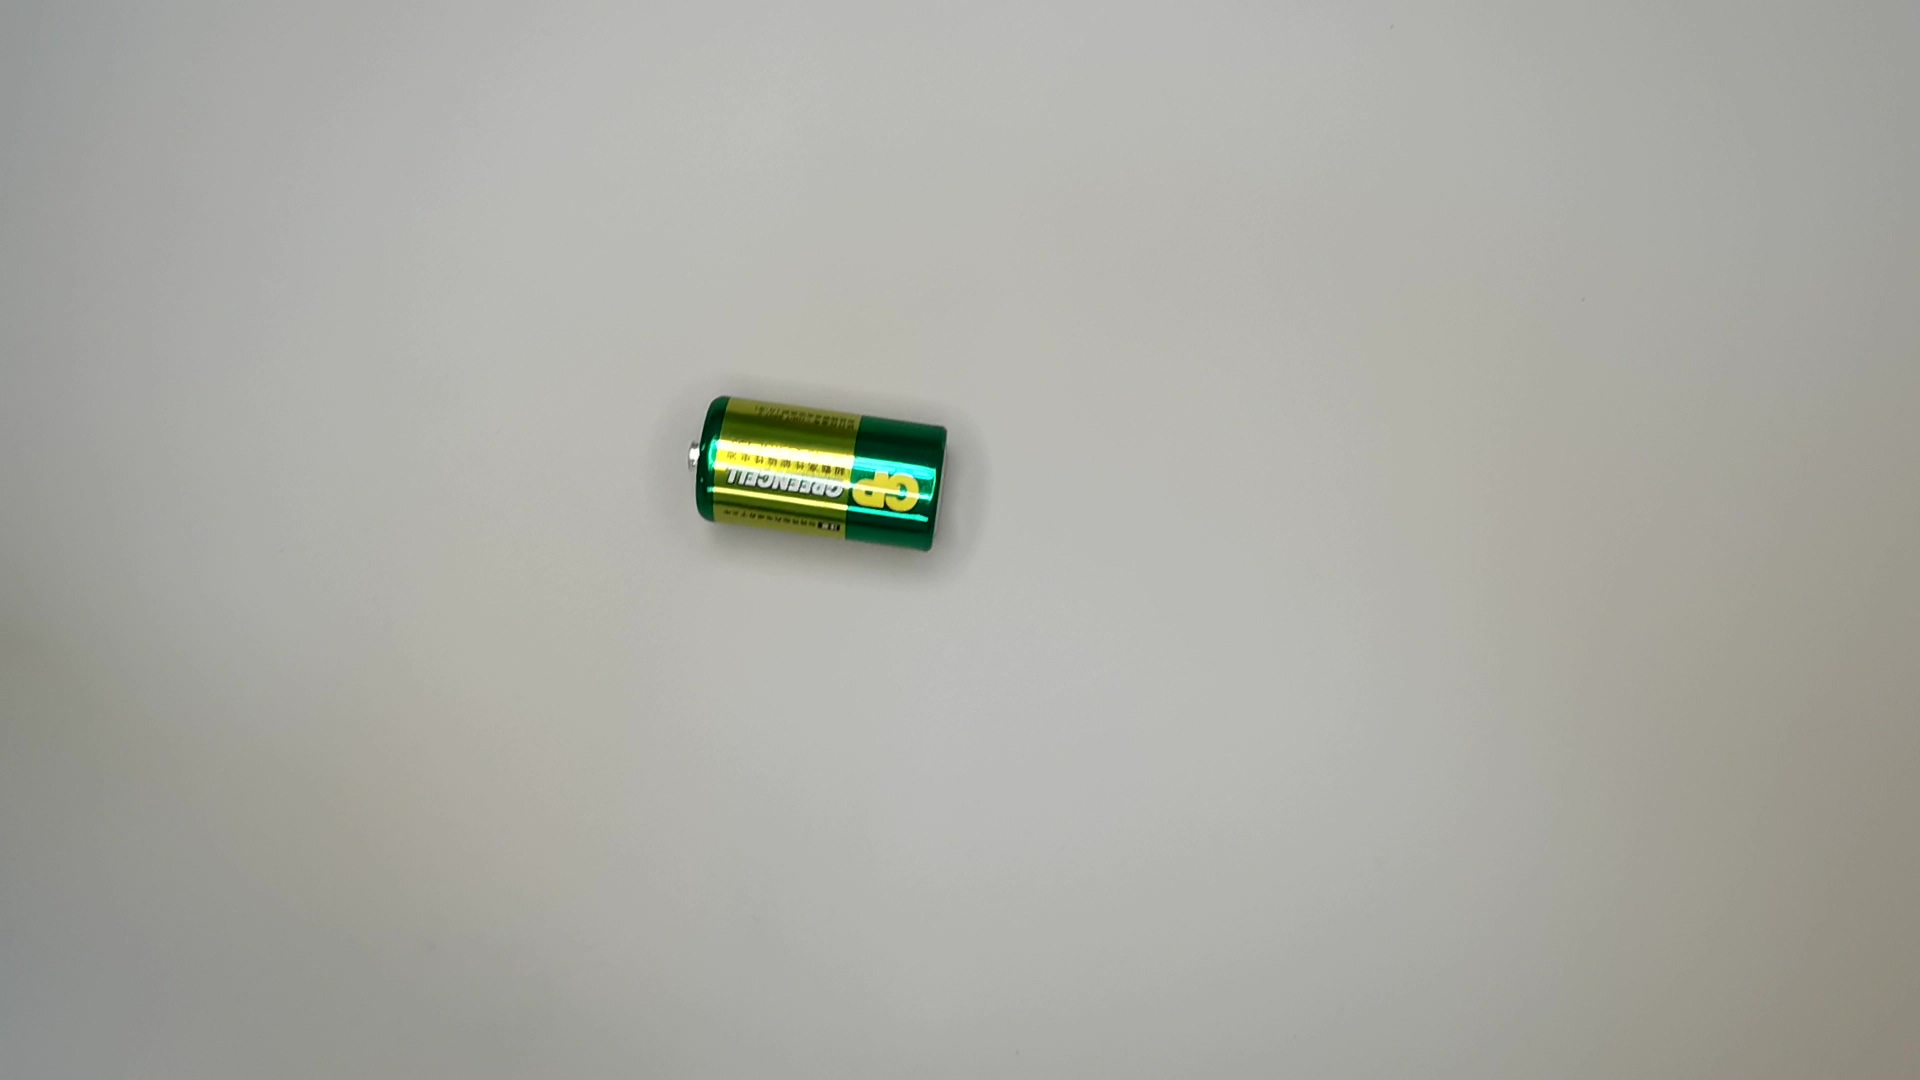battery: (686, 386, 957, 560)
